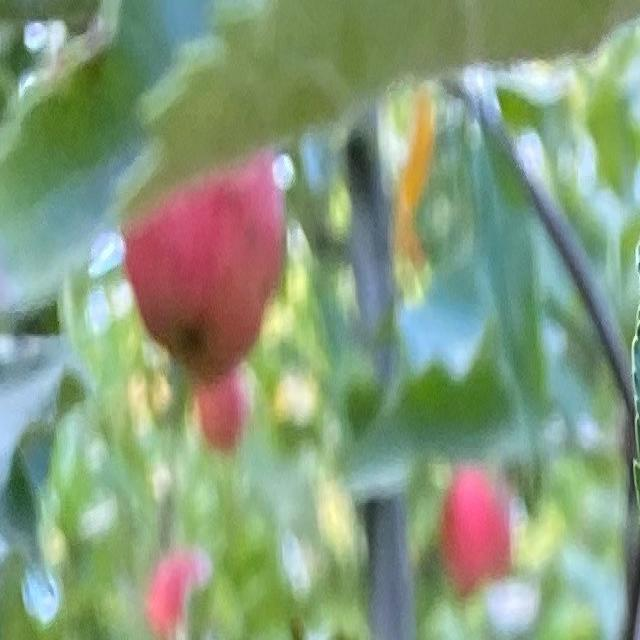Apples: (127, 155, 282, 373), (445, 468, 513, 594), (148, 548, 209, 636), (199, 366, 251, 454)
